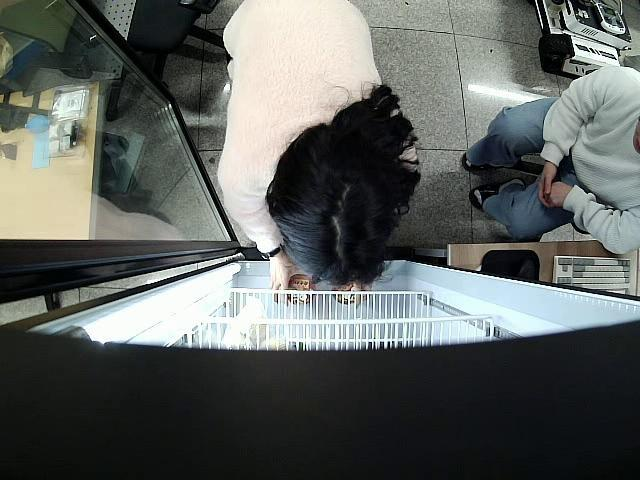06_nuguri_S: (286, 274, 316, 309)
